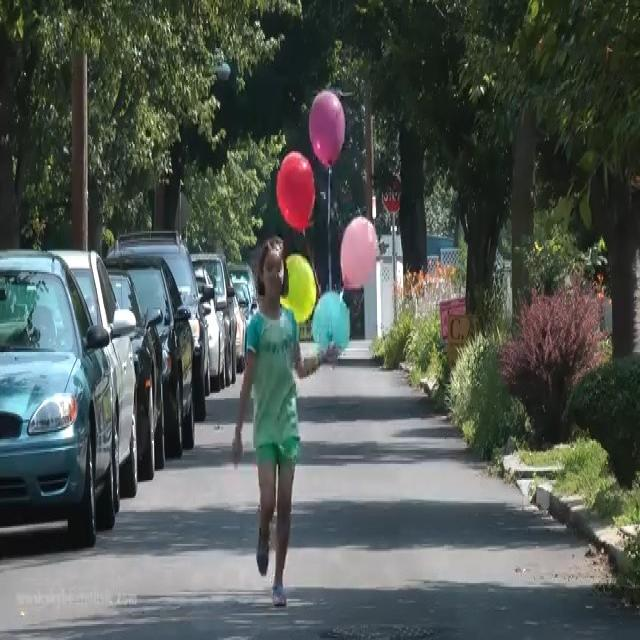balloon: (276, 152, 318, 231), (309, 90, 349, 162), (342, 218, 378, 287), (315, 296, 352, 359), (280, 256, 316, 318)
